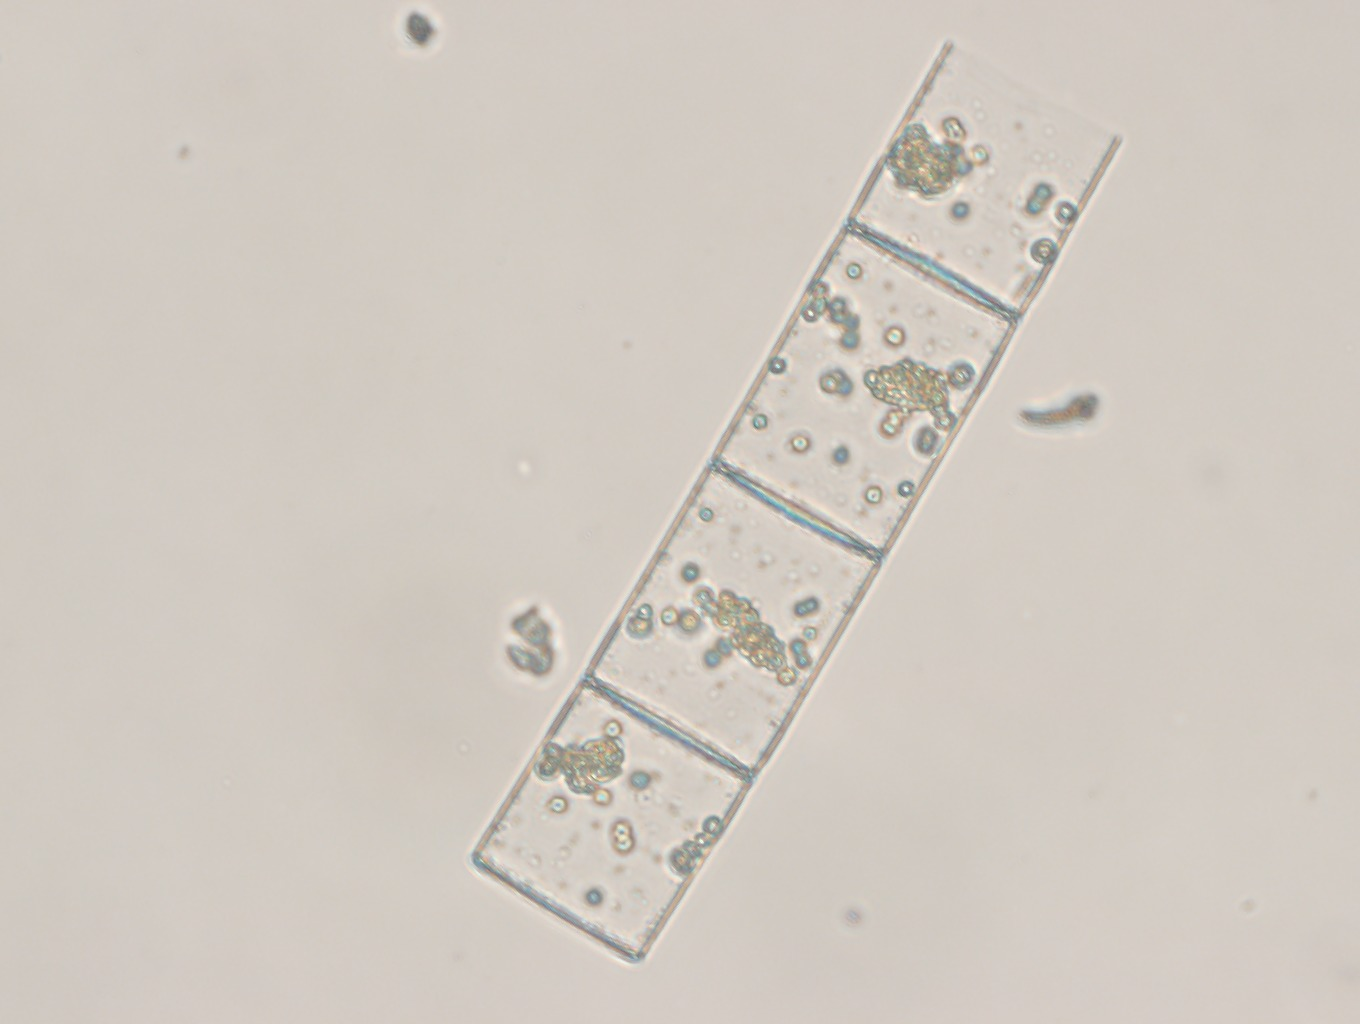guinardia flaccida: (469, 38, 1121, 967)
